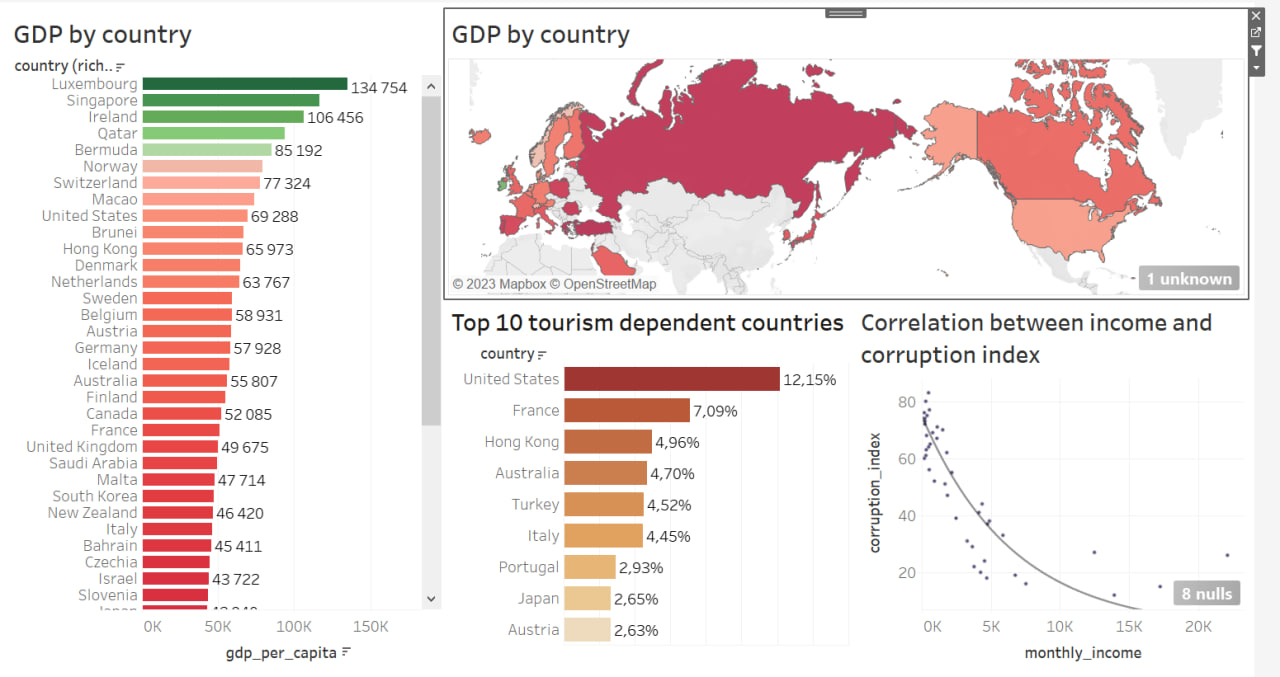

Layout of this report page (visuals, bound fields, positions):
{"tool":"tableau","page":{"name":"Dashboard 1","canvas":[1000,1000],"units":"permille","ordinal":0},"visuals":[{"type":"worksheet","title":"Sheet 1","mark":"Automatic","rows":["country (richest!countries)"],"cols":["gdp_per_capita"],"box":[5.3,9.8,349.4,980.5]},{"type":"worksheet","title":"Sheet 2","mark":"Multipolygon","box":[354.6,9.8,640.1,428.6]},{"type":"worksheet","title":"Sheet 3","mark":"Automatic","rows":["country"],"cols":["tourism_pct_gdp"],"box":[354.6,438.3,326.3,551.9]},{"type":"worksheet","title":"Sheet 4","mark":"Circle","rows":["corruption_index"],"cols":["monthly_income"],"box":[680.9,438.3,313.8,551.9]}]}

Visuals, with their boxes on the dashboard's canvas, which has no fixed pixel size, in thousandths of its width and height (x1, y1, x2, y2). These are canvas units, not pixel positions in the 1280x677 screenshot, which may show the page scaled, cropped or inside an application window:
"Sheet 1" worksheet: x1=5, y1=10, x2=355, y2=990
"Sheet 2" worksheet (Multipolygon marks): x1=355, y1=10, x2=995, y2=438
"Sheet 3" worksheet: x1=355, y1=438, x2=681, y2=990
"Sheet 4" worksheet (Circle marks): x1=681, y1=438, x2=995, y2=990
